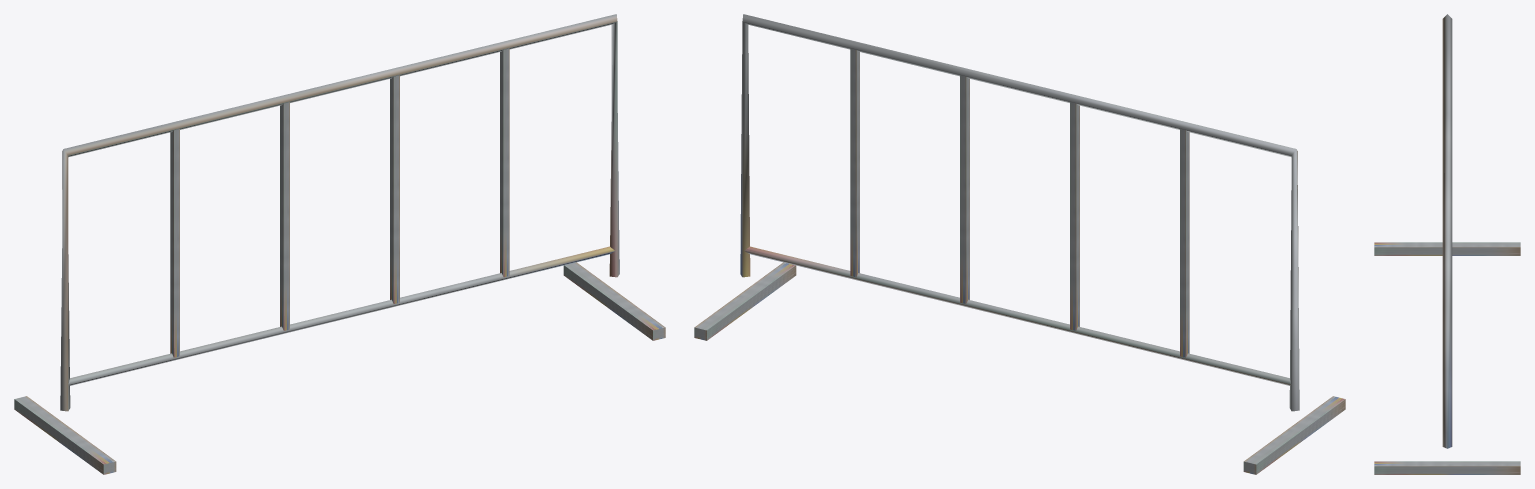
File: barriere_vauban_lod2.glb
The picture shows the model from 3 angles, left to right: view 1: azimuth 30°, elevation 25°; view 2: azimuth 150°, elevation 25°; view 3: azimuth 270°, elevation 25°; orthographic projection. The views are drawn at different scales.
Visible parts, largest first — view 1: barriere_vauban; view 2: barriere_vauban; view 3: barriere_vauban.
Boxes of the visible parts, left/top/right/bottom form: barriere_vauban: left=14, top=14, right=665, bottom=474; barriere_vauban: left=694, top=14, right=1345, bottom=474; barriere_vauban: left=1374, top=14, right=1520, bottom=474.
Size of the model in its own units: 2.25 by 1.12 by 0.62.
1 material, 1 textured.
